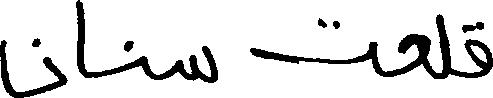X: (254, 13, 377, 78), (0, 33, 66, 97), (465, 17, 492, 82), (180, 41, 217, 87), (398, 29, 429, 79), (437, 9, 451, 83), (76, 0, 84, 97), (138, 51, 148, 80)
